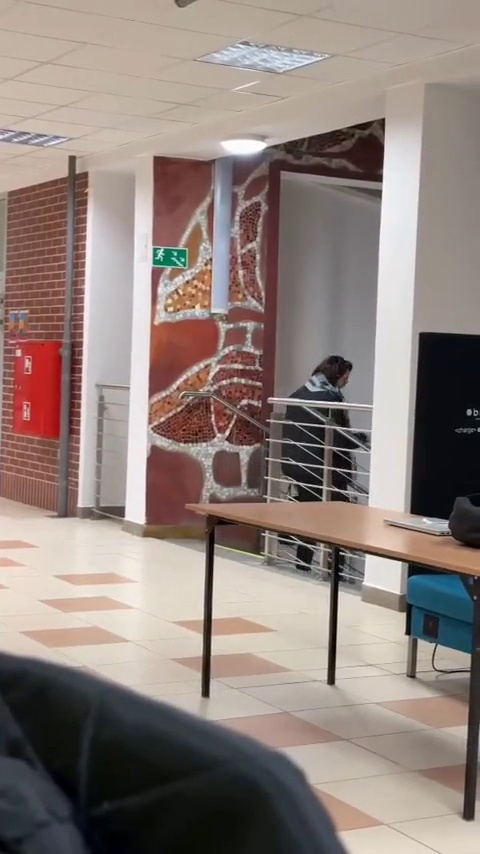no vest: (285, 346, 365, 494)
